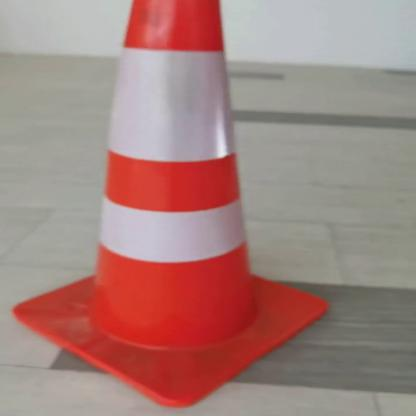cone: (4, 0, 336, 408)
